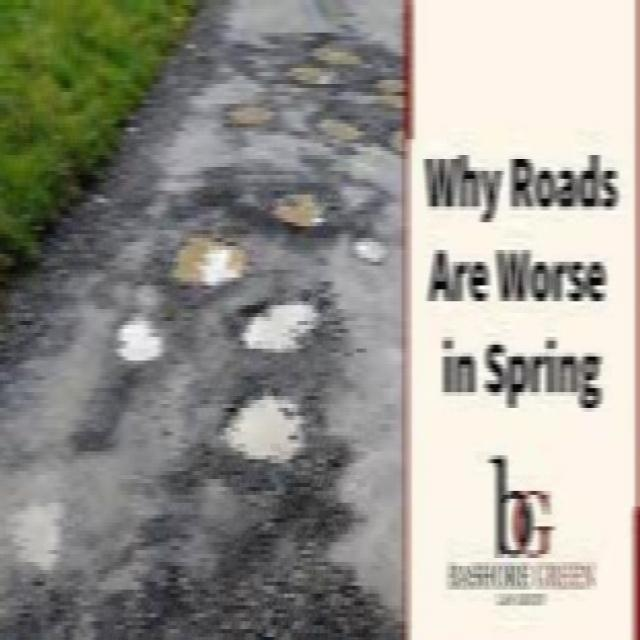Pothole: (211, 378, 308, 478), (231, 285, 351, 364), (0, 465, 78, 582), (154, 223, 247, 286), (244, 189, 334, 238), (110, 310, 171, 373), (309, 112, 366, 156), (344, 222, 392, 272), (218, 103, 272, 140), (306, 42, 374, 65), (279, 65, 336, 89), (382, 72, 410, 116), (386, 120, 407, 154)
